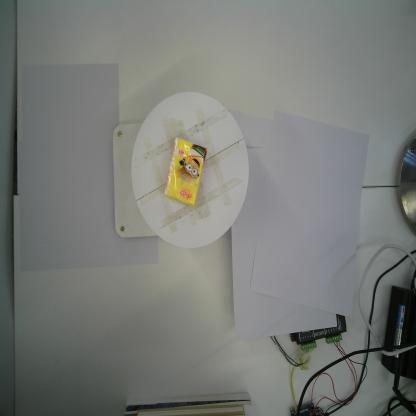Tissue: (164, 136, 207, 207)
